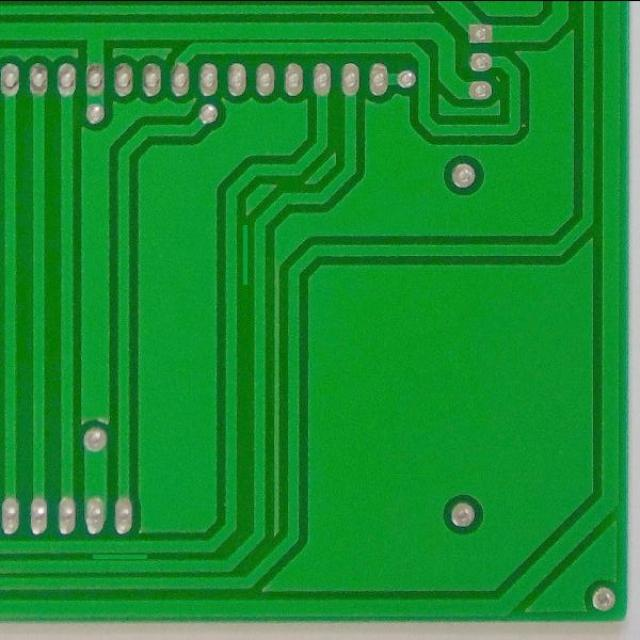Spurious_Cooper: (239, 221, 254, 290), (88, 551, 152, 562)
